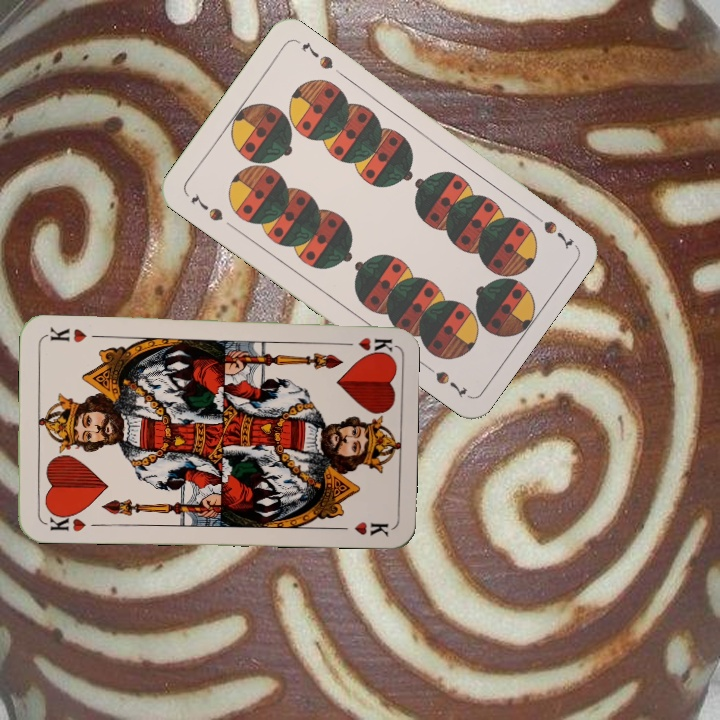HK: (334, 333, 393, 354), (45, 508, 88, 534)
S7: (526, 207, 577, 252), (187, 190, 226, 224)
